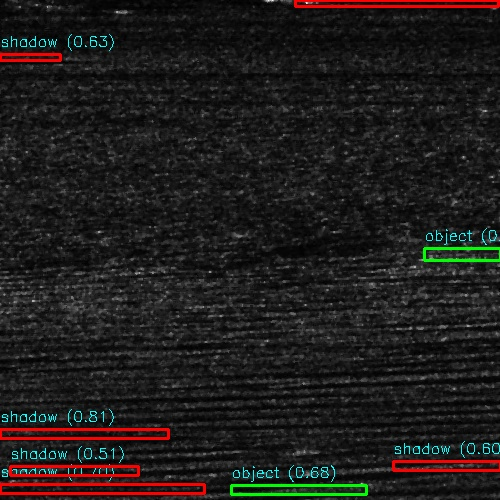rock: (208, 0, 375, 6)
shadow: (292, 0, 500, 6), (0, 55, 19, 62)
